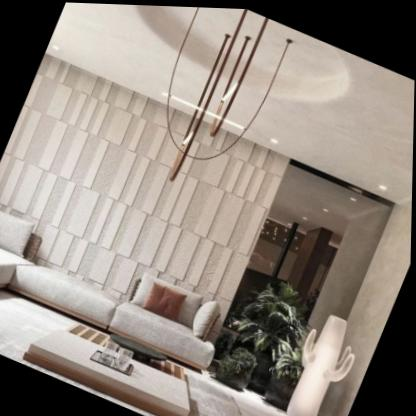Sofa: (0, 200, 241, 391)
Wall Panel: (0, 51, 294, 333)
